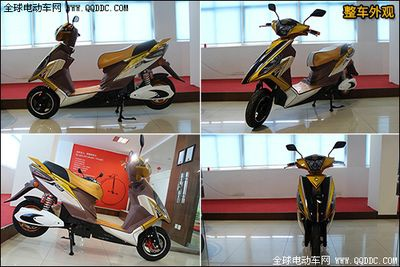non-vehicle: (12, 146, 172, 262), (25, 5, 181, 116), (240, 4, 365, 133), (278, 141, 347, 259)
